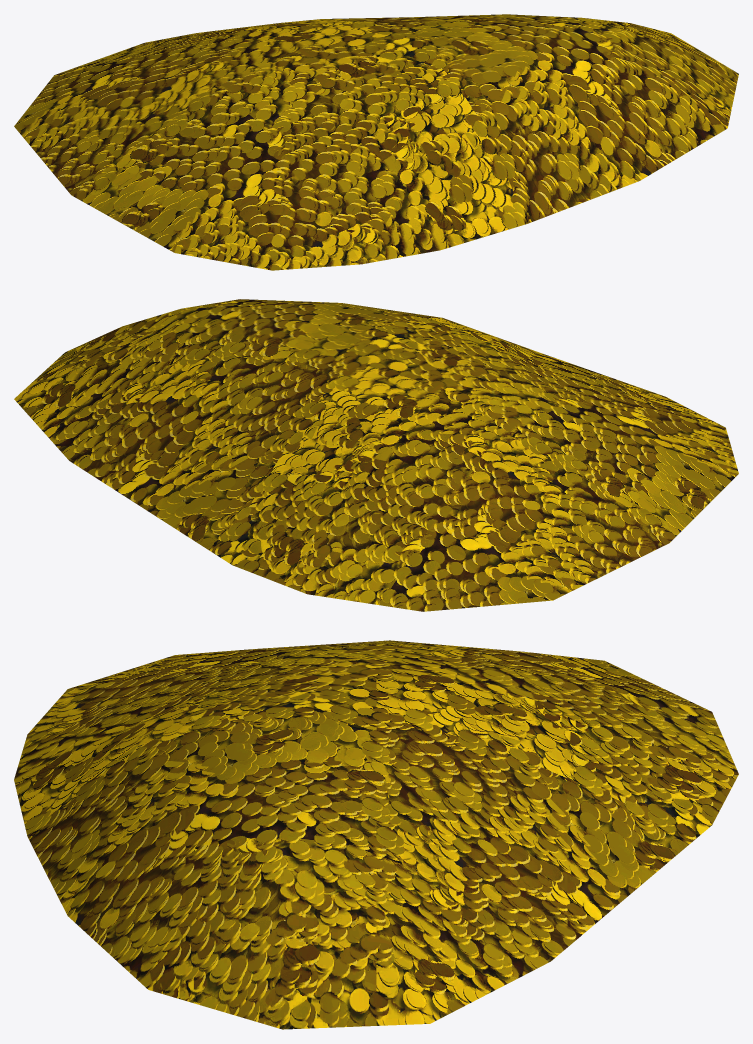
The model's file is INST_SM_GOLDPILE_MEDIUMA.obj.
3 renders of one model, top to bottom at view 1: azimuth 30°, elevation 25°; view 2: azimuth 150°, elevation 25°; view 3: azimuth 270°, elevation 25°, orthographic. The views are drawn at different scales.
Parts seen in each view (by area): view 1: SM_GP_Top09; view 2: SM_GP_Top09; view 3: SM_GP_Top09.
Boxes of the visible parts, x1,y1,x2,y2 form: SM_GP_Top09: (14, 14, 738, 270); SM_GP_Top09: (14, 299, 738, 611); SM_GP_Top09: (14, 640, 738, 1029).
Size of the model in its own units: 850 by 132 by 675.
